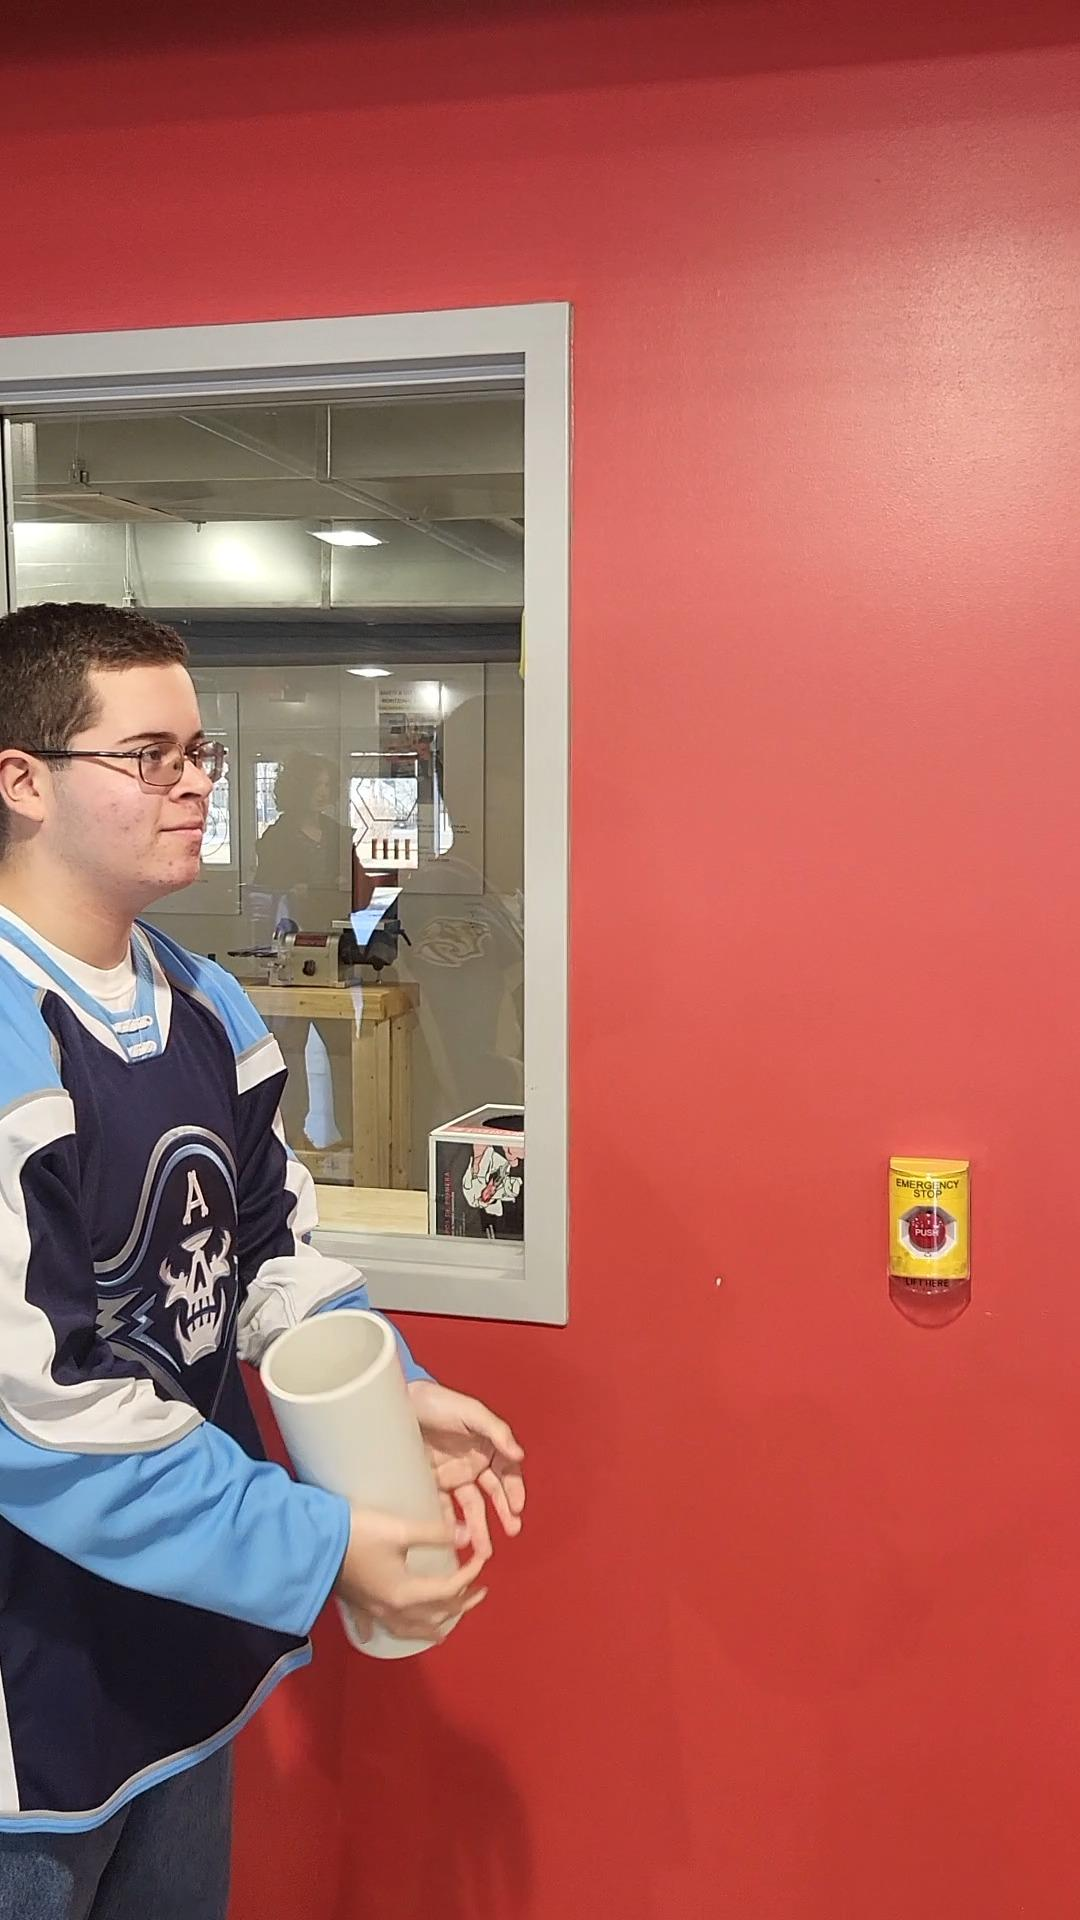coral: (260, 1308, 484, 1656)
